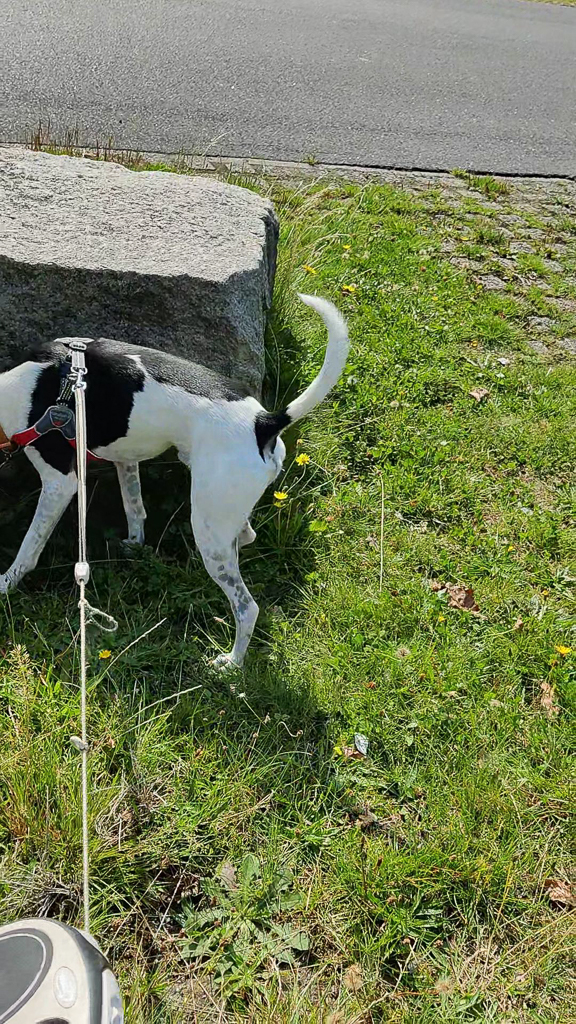Dog: (0, 282, 368, 685)
